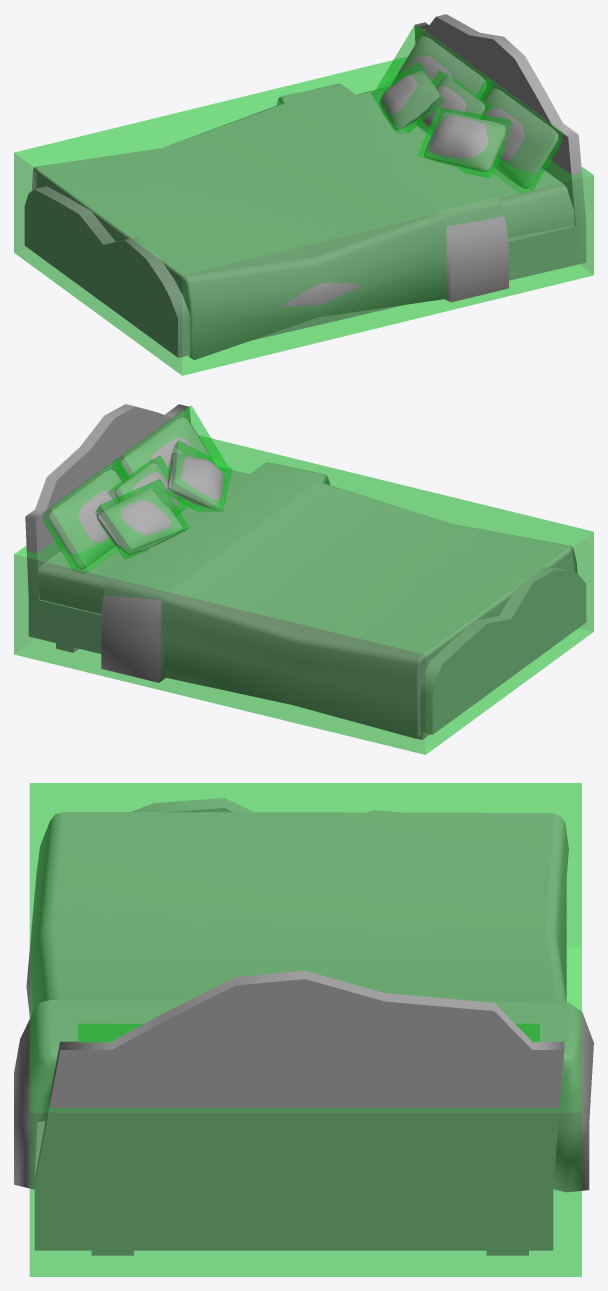
Rendered from Master_Bed.fbx.
3 views of the same model, one above another, from view 1: azimuth 30°, elevation 25°; view 2: azimuth 150°, elevation 25°; view 3: azimuth 270°, elevation 25° (orthographic). The views are drawn at different scales.
Parts seen in each view (by area): view 1: pCube88, Bed_2, Pillow_6, pCube91, Pillow_7, pCube94, pCube92, Pillow_3, pCube95, Pillow_4, Pillow_5, pCube93; view 2: pCube88, Bed_2, Pillow_3, pCube92, Pillow_4, pCube95, pCube91, Pillow_6, Pillow_7, pCube94, Pillow_5, pCube93; view 3: Bed_2, pCube88, pCube91.
Boxes of the visible parts, x1,y1,x2,y2 form: pCube88: (14, 57, 593, 375); Bed_2: (24, 14, 586, 359); Pillow_6: (480, 88, 558, 189); pCube91: (475, 78, 563, 192); Pillow_7: (423, 112, 506, 171); pCube94: (417, 107, 512, 177); pCube92: (377, 25, 490, 99); Pillow_3: (391, 35, 486, 98); pCube95: (371, 61, 444, 133); Pillow_4: (378, 70, 439, 130); Pillow_5: (417, 76, 484, 135); pCube93: (417, 70, 491, 132); pCube88: (14, 436, 593, 754); Bed_2: (25, 404, 586, 738); Pillow_3: (48, 468, 122, 569); pCube92: (42, 458, 130, 573); Pillow_4: (96, 488, 183, 554); pCube95: (95, 479, 188, 559); pCube91: (116, 405, 227, 479); Pillow_6: (120, 416, 215, 498); Pillow_7: (167, 453, 225, 510); pCube94: (166, 440, 232, 511); Pillow_5: (114, 461, 183, 515); pCube93: (108, 455, 188, 512); Bed_2: (14, 798, 593, 1255); pCube88: (29, 783, 581, 1276); pCube91: (78, 1023, 143, 1042).
Bounding box in the file's own units: 321 × 133 × 239.
